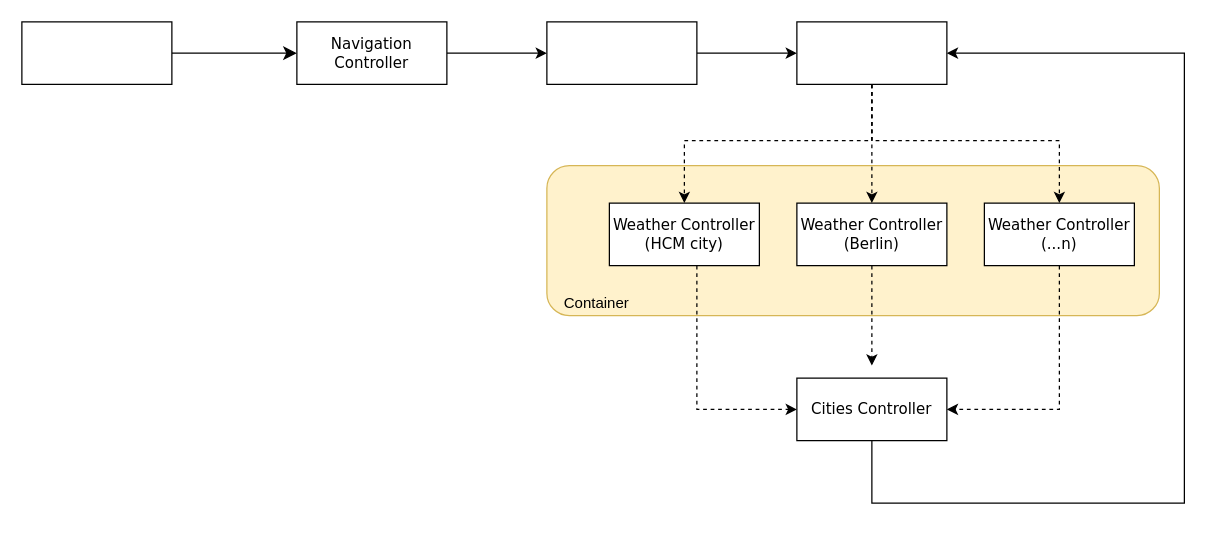
Some shapes in this 1216 by 535 pixel diagram are drawn without their labels. The shapes that lost their labels are listed below. From the top down, each one's centre as x and y in pixels, then its label:
At point (96, 52): "App Launch".
At point (621, 52): "Home Controller (root)".
At point (871, 52): "Page Controller (Container)".
